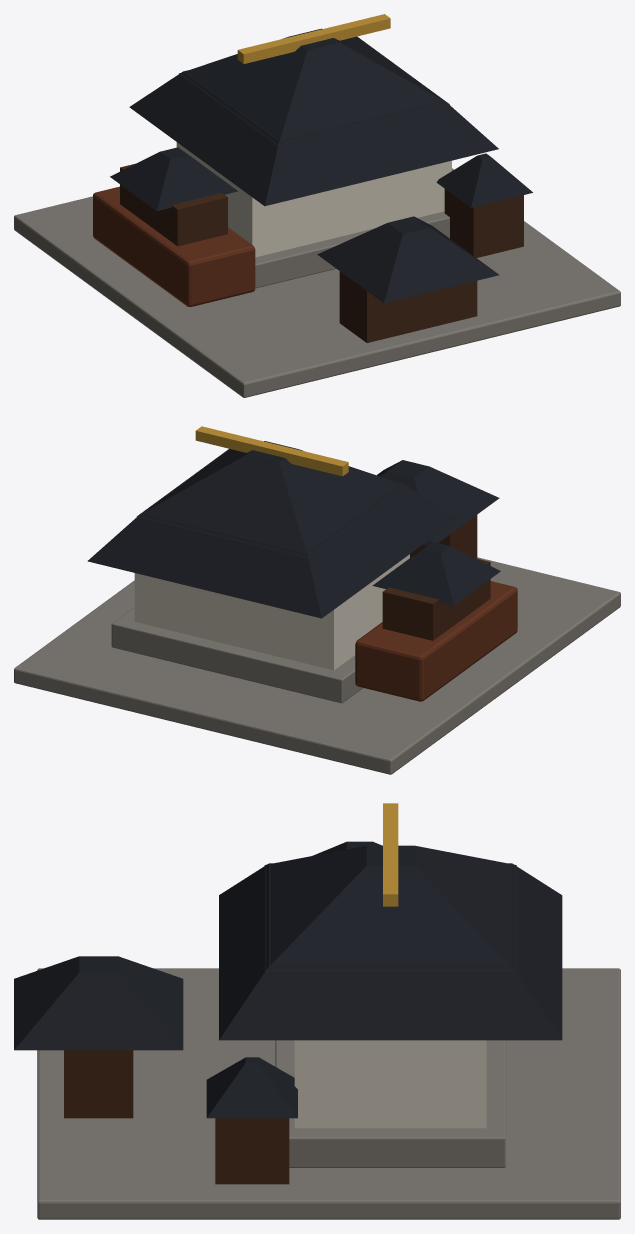
The model's file is myouren-temple.glb.
3 views of the same model, one above another, from view 1: azimuth 30°, elevation 25°; view 2: azimuth 150°, elevation 25°; view 3: azimuth 270°, elevation 25° (orthographic). The views are drawn at different scales.
Parts seen in each view (by area): view 1: myouren-temple_Opaque; view 2: myouren-temple_Opaque; view 3: myouren-temple_Opaque.
Boxes of the visible parts, x1,y1,x2,y2 form: myouren-temple_Opaque: (14,14,620,397); myouren-temple_Opaque: (14,426,620,774); myouren-temple_Opaque: (14,803,620,1219).
Size of the model in its own units: 36 by 19.25 by 39.52.
